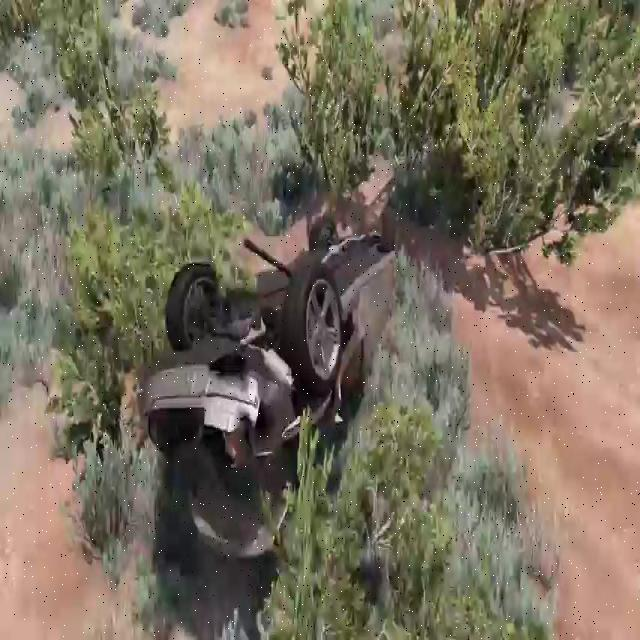severe: (138, 200, 404, 564)
